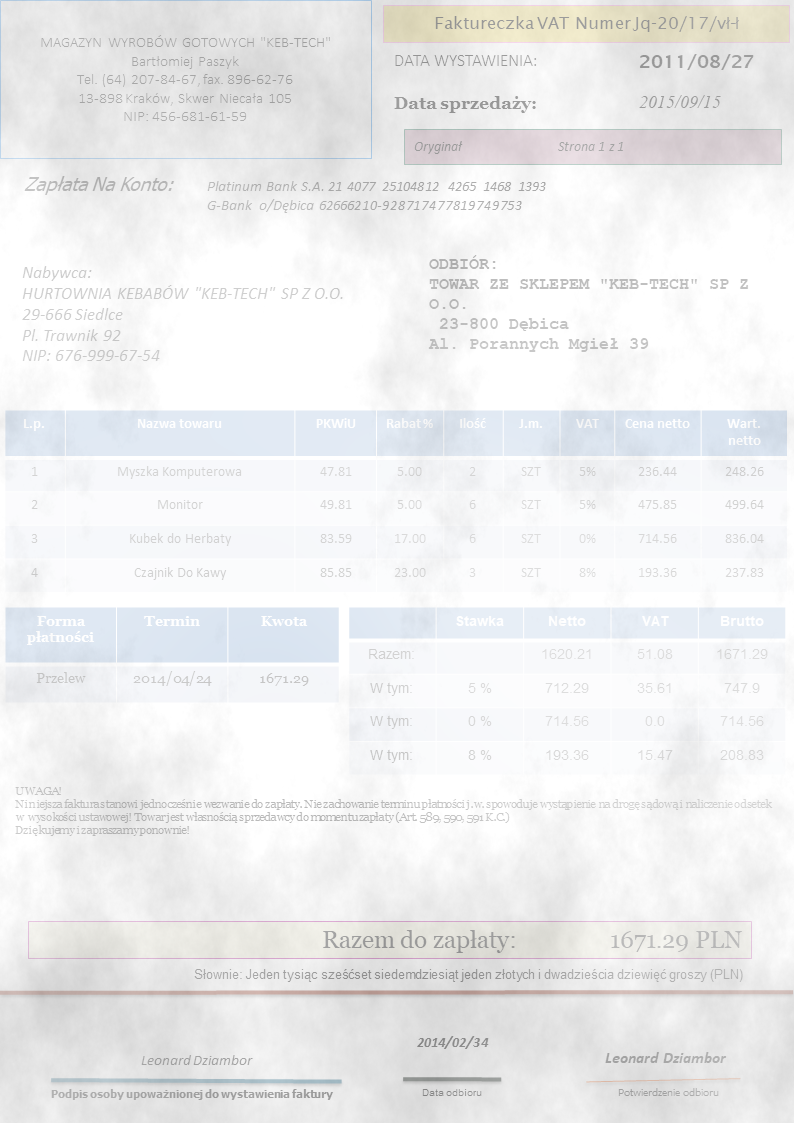Table: (4, 408, 788, 594), (347, 606, 787, 776), (4, 605, 340, 705)
TextBox: (12, 783, 775, 840), (425, 251, 754, 355), (18, 262, 344, 365), (37, 32, 334, 126), (204, 177, 550, 216), (320, 925, 745, 956), (192, 963, 743, 986), (431, 12, 740, 34), (48, 1084, 336, 1103), (412, 139, 624, 157), (22, 173, 175, 197), (391, 93, 540, 115), (391, 50, 538, 71), (637, 52, 755, 75), (601, 1049, 726, 1066), (138, 1051, 256, 1069), (638, 92, 722, 112), (616, 1086, 720, 1099), (415, 1033, 490, 1051), (418, 1084, 483, 1100)
